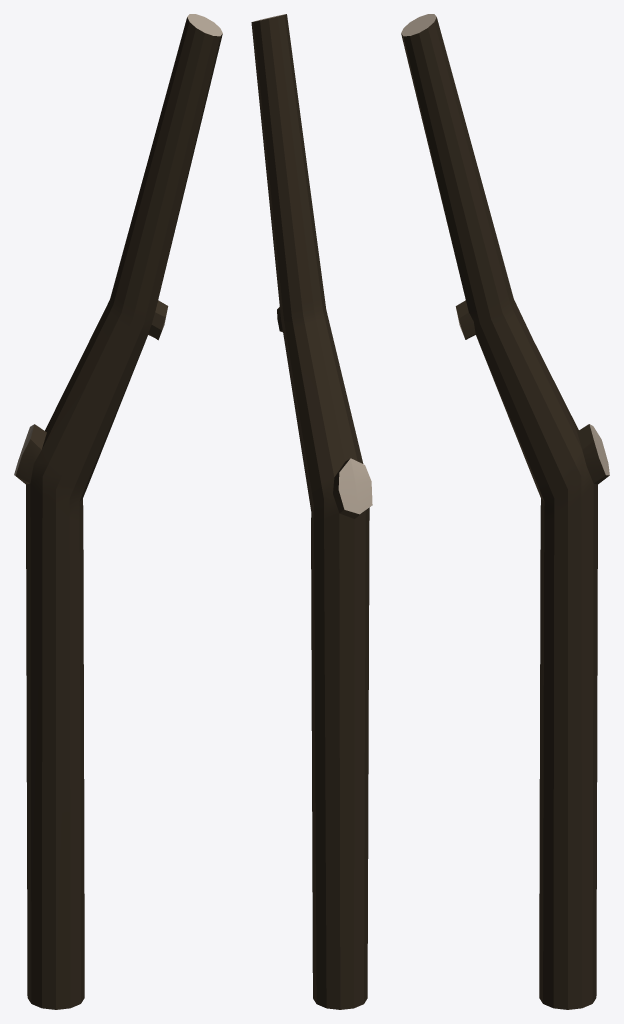
File: Stick.fbx
3 renders of one model, left to right at view 1: azimuth 90°, elevation 25°; view 2: azimuth 210°, elevation 25°; view 3: azimuth 270°, elevation 25°, orthographic. The views are drawn at different scales.
Visible parts, largest first — view 1: pCylinder1; view 2: pCylinder1; view 3: pCylinder1.
Part boxes in pixels (x1,y1,x2,y2): pCylinder1: [14, 14, 222, 1009]; pCylinder1: [251, 14, 372, 1009]; pCylinder1: [401, 14, 609, 1009].
Size of the model in its own units: 2.46 by 41.82 by 8.07.
